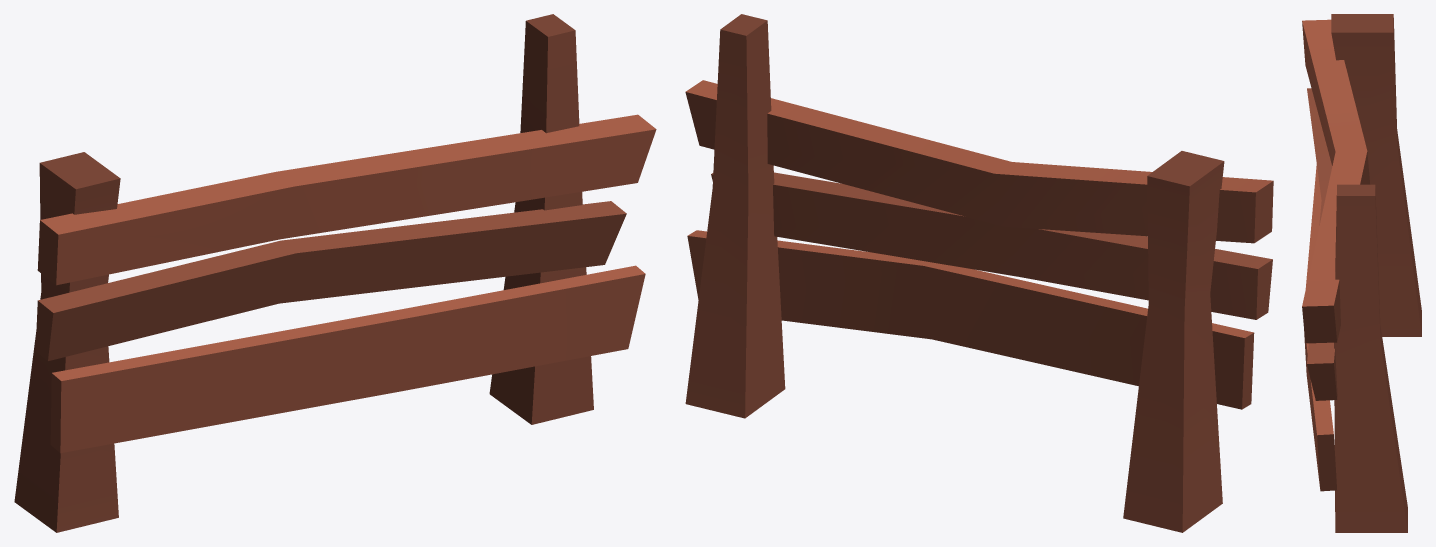
Rendered from Fence_2.fbx.
3 views of the same model, side by side, from view 1: azimuth 30°, elevation 25°; view 2: azimuth 150°, elevation 25°; view 3: azimuth 270°, elevation 25° (orthographic). The views are drawn at different scales.
Parts seen in each view (by area): view 1: Fence_2; view 2: Fence_2; view 3: Fence_2.
Part boxes in pixels (x1,y1,x2,y2): Fence_2: (14, 14, 656, 532); Fence_2: (685, 14, 1273, 532); Fence_2: (1302, 14, 1421, 532).
Size of the model in its own units: 0.0237 by 0.0144 by 0.00476.
